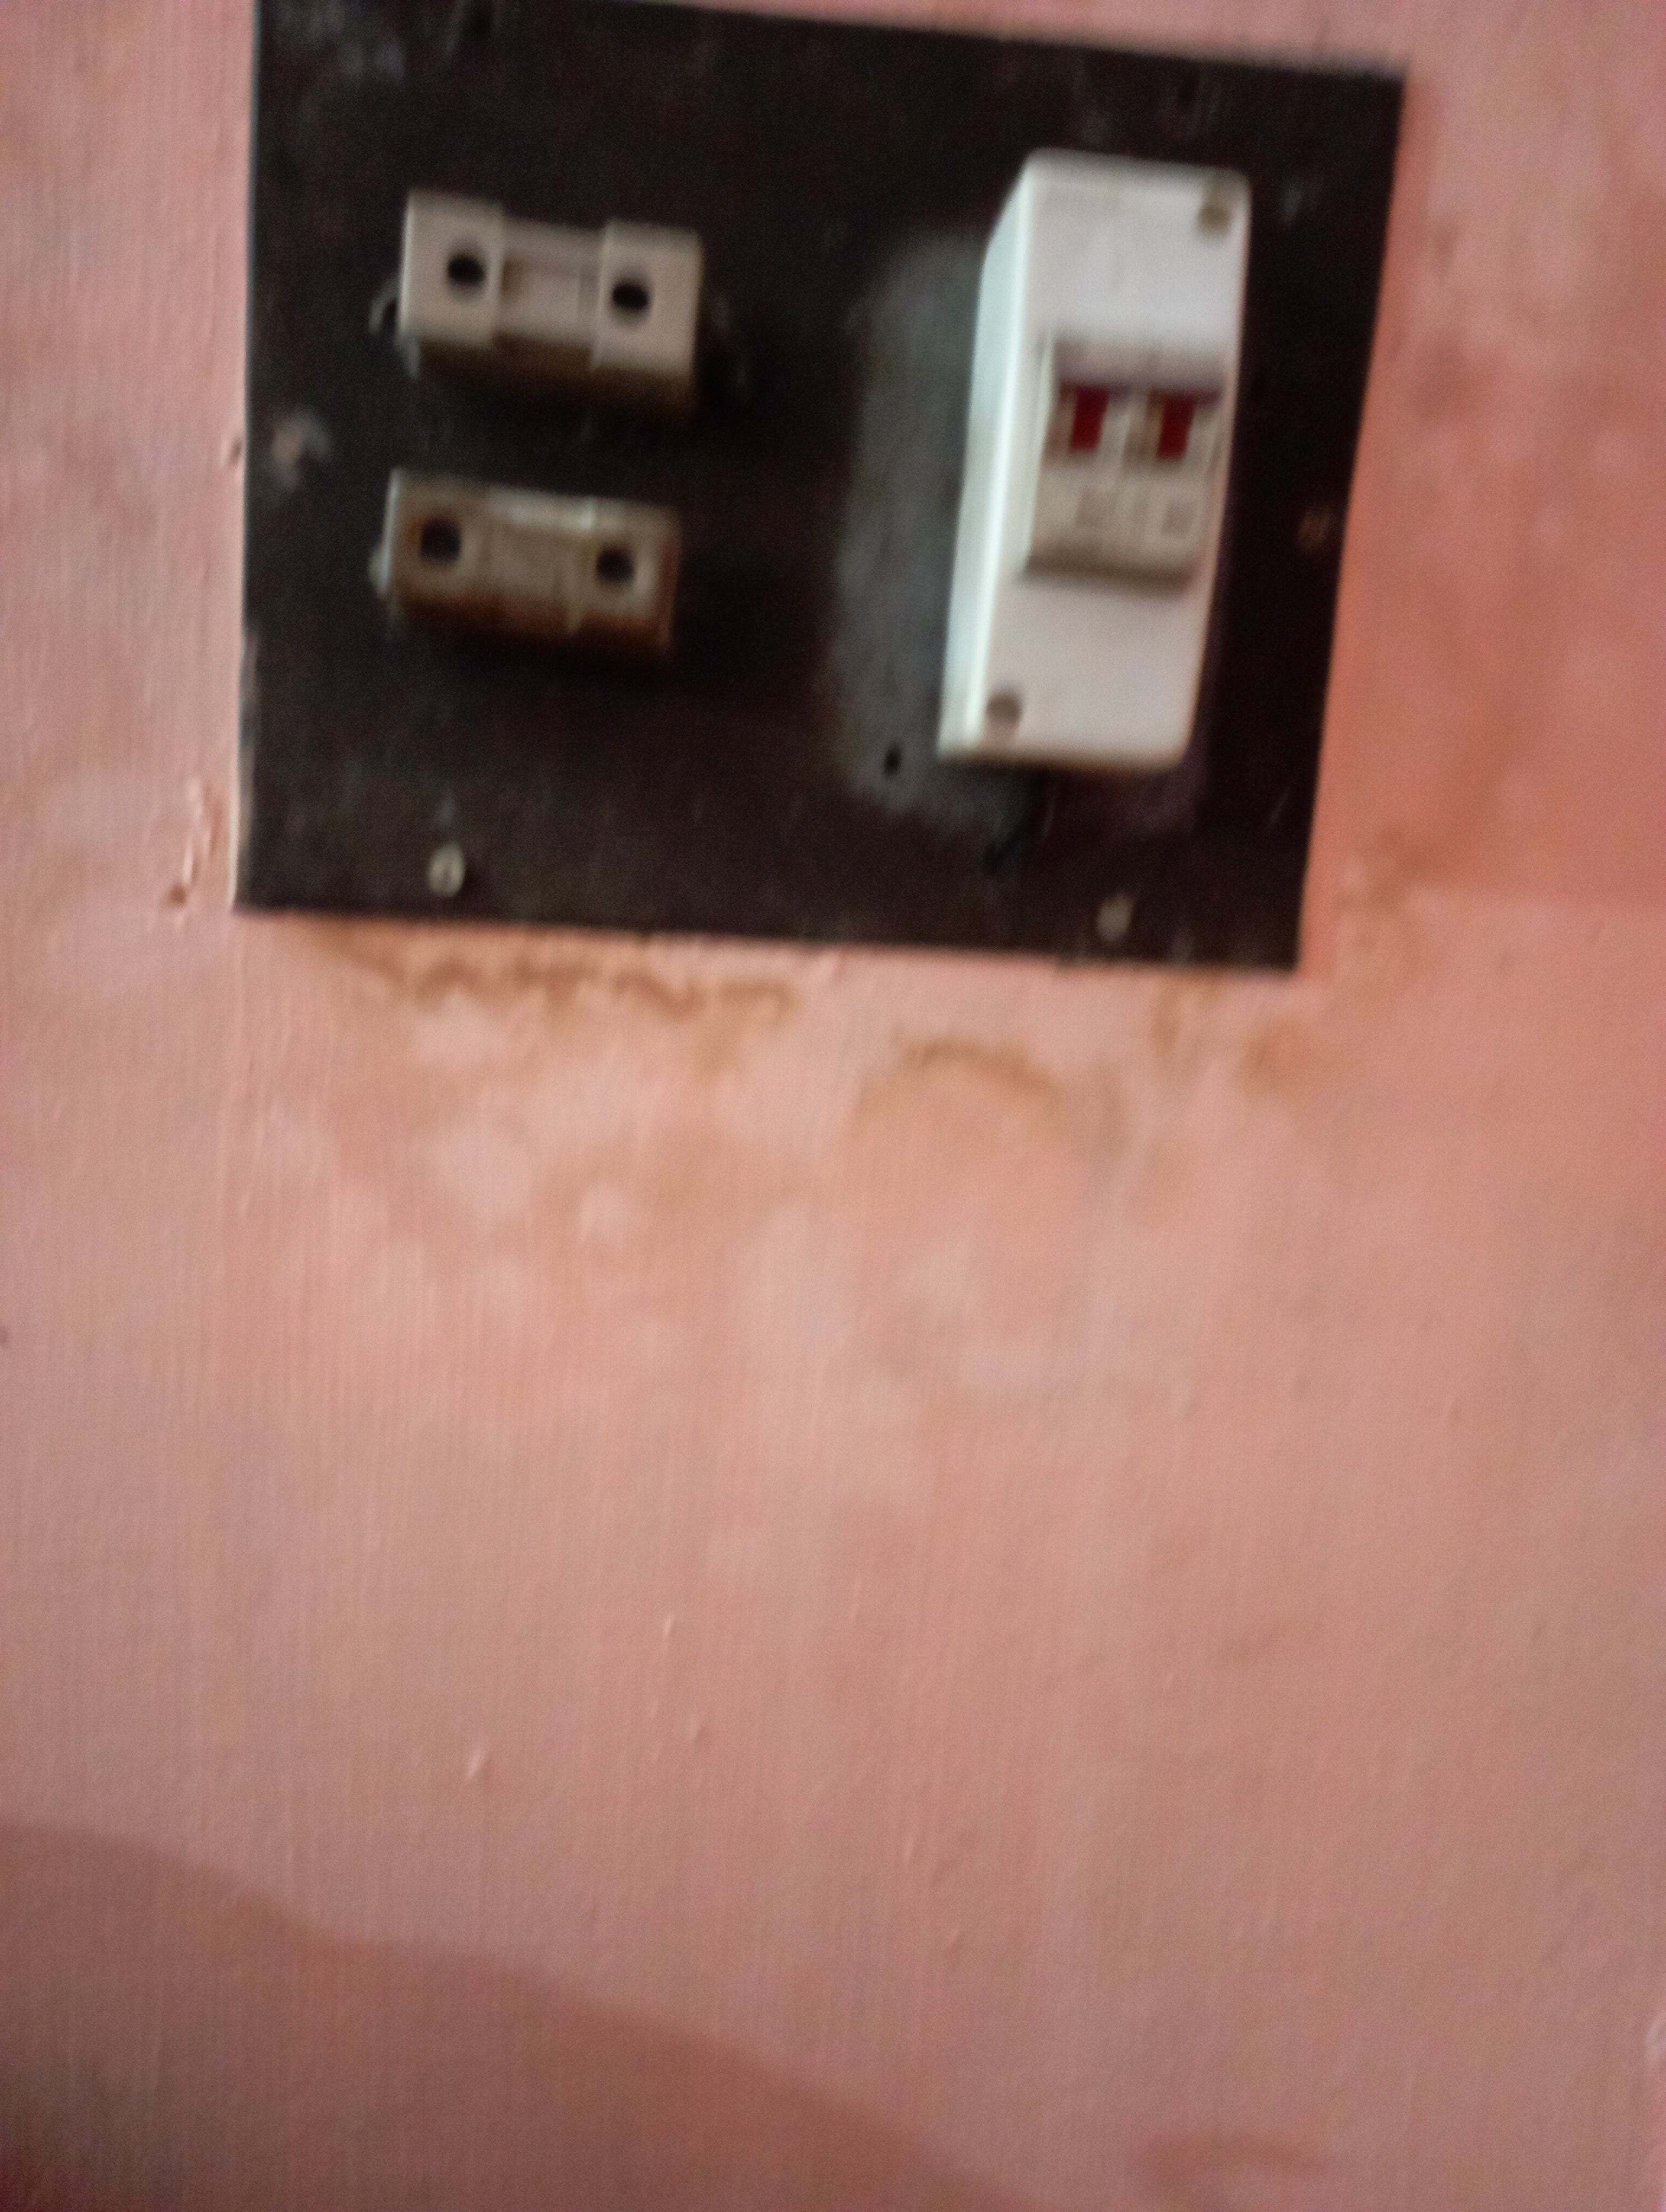ciruit_breaker: (917, 145, 1234, 797)
fuse: (308, 462, 740, 661), (392, 177, 700, 383)
